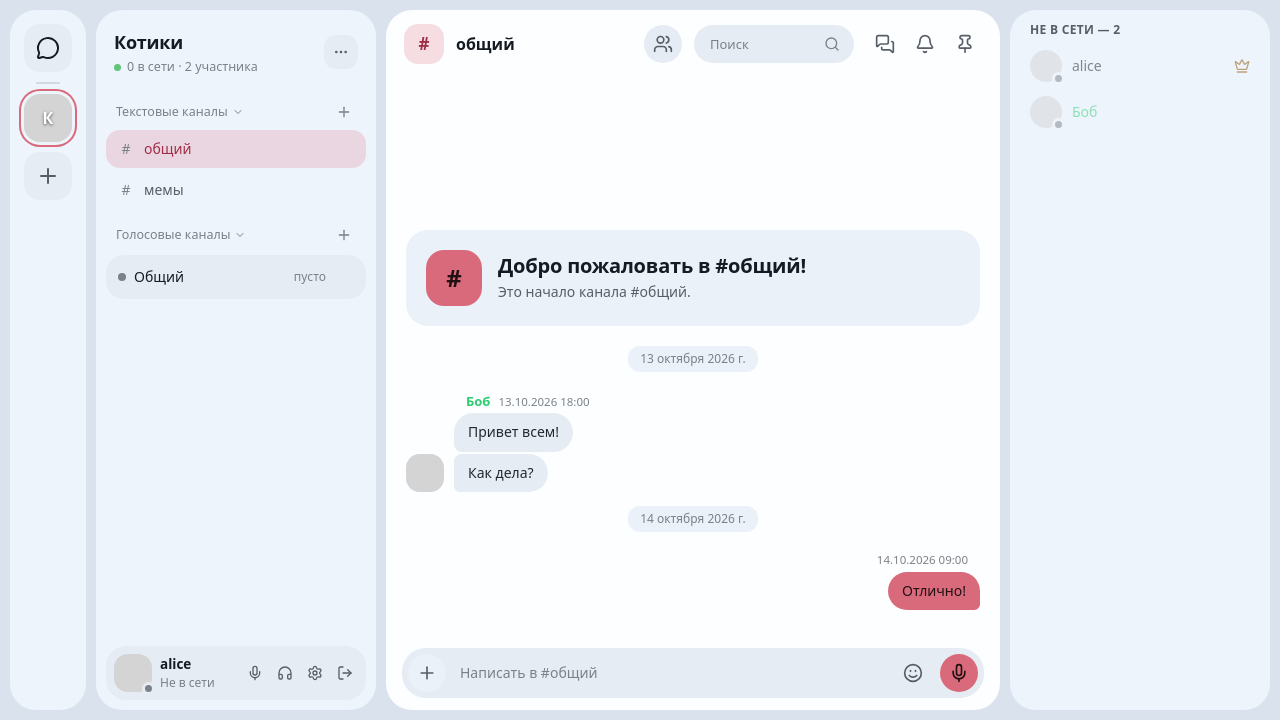
Test: pins panel › lets moderators unpin from the popover, which closes with Escape
Check: the text "Как дела?" is shown, box top-left (468, 463), bottom-right (534, 483)
Click the button named "Закреплённые сообщения".
click(965, 44)  # box top-left (946, 25), bottom-right (984, 63)
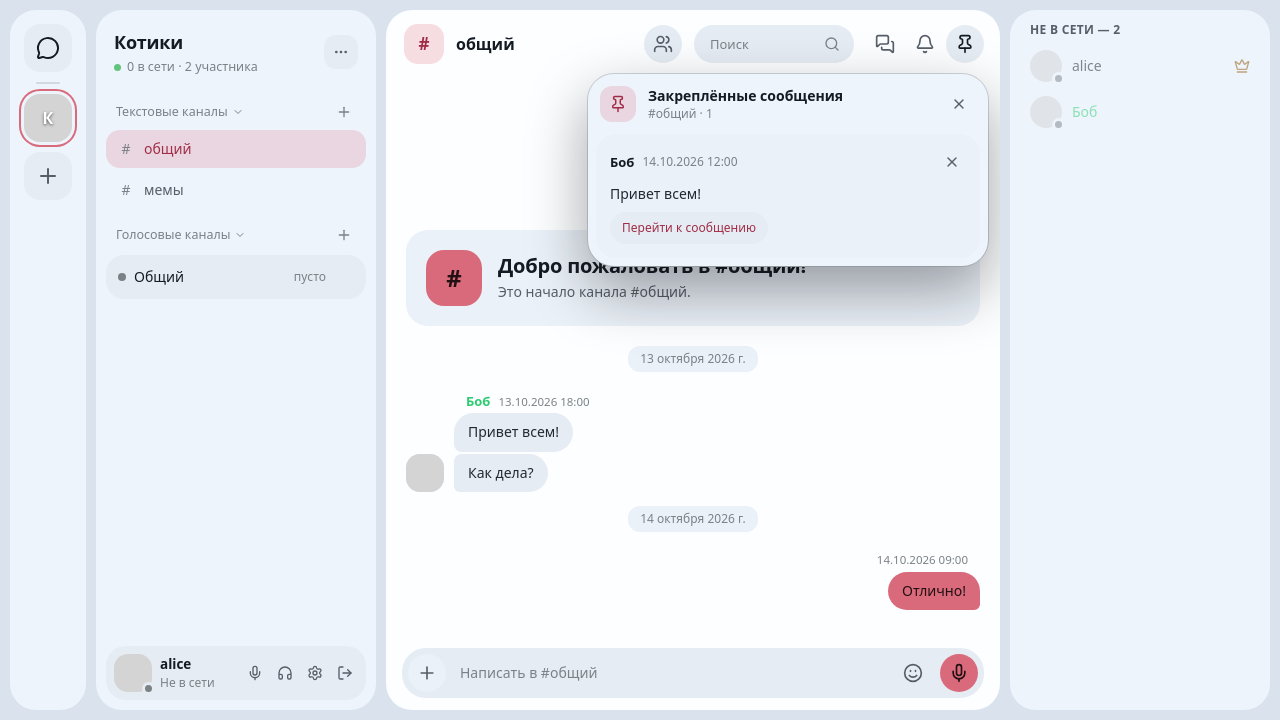
Click the button named "Открепить".
click(952, 162)  # box top-left (938, 148), bottom-right (966, 176)
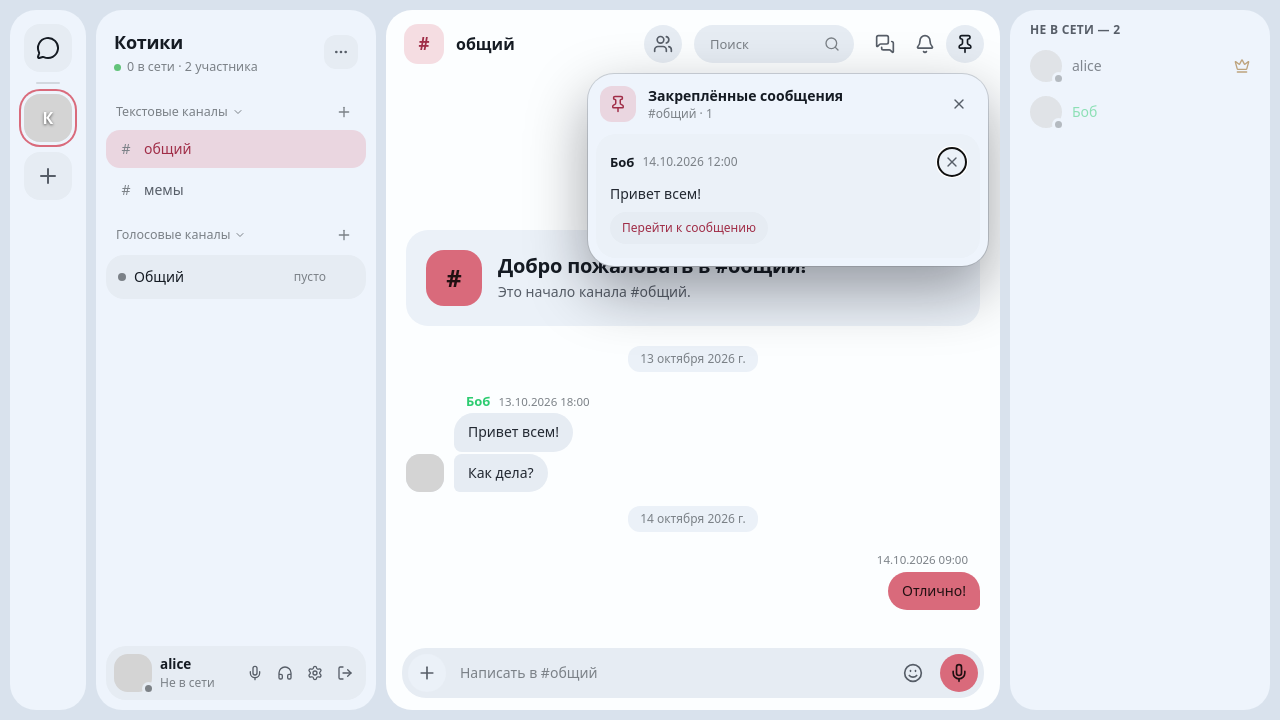
Press Escape
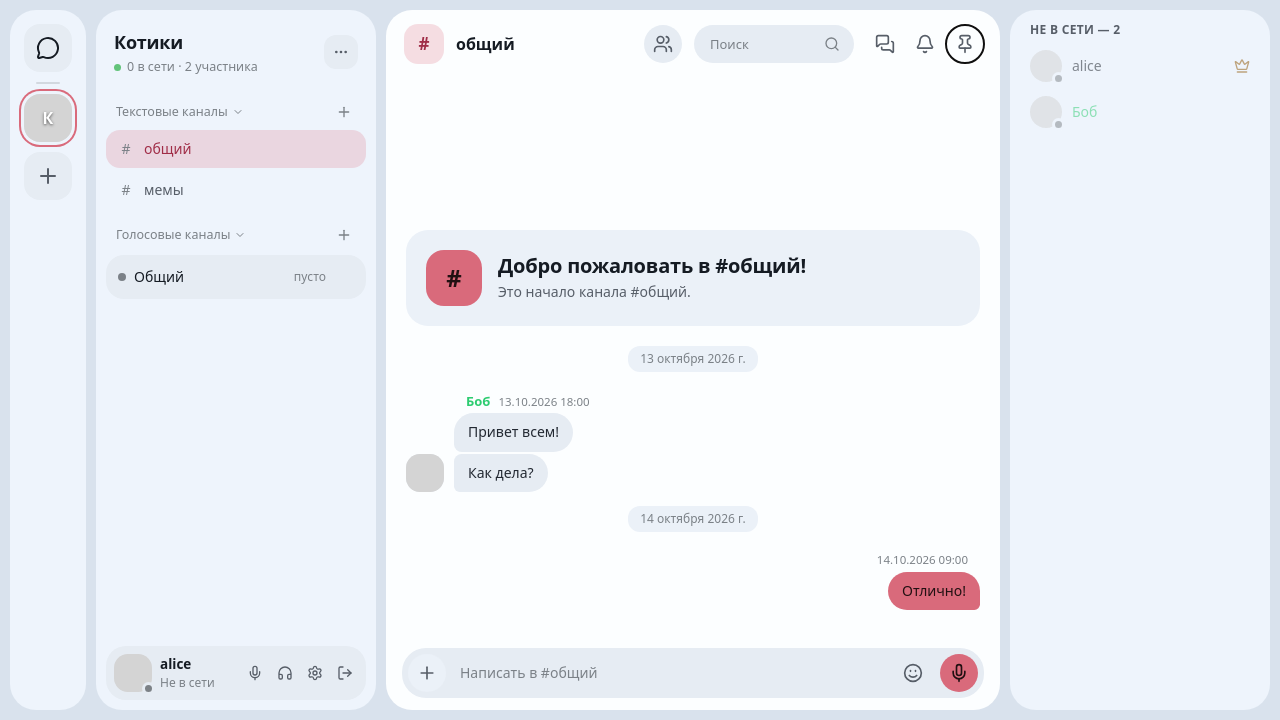
Check: the heading "Закреплённые сообщения" is gone
